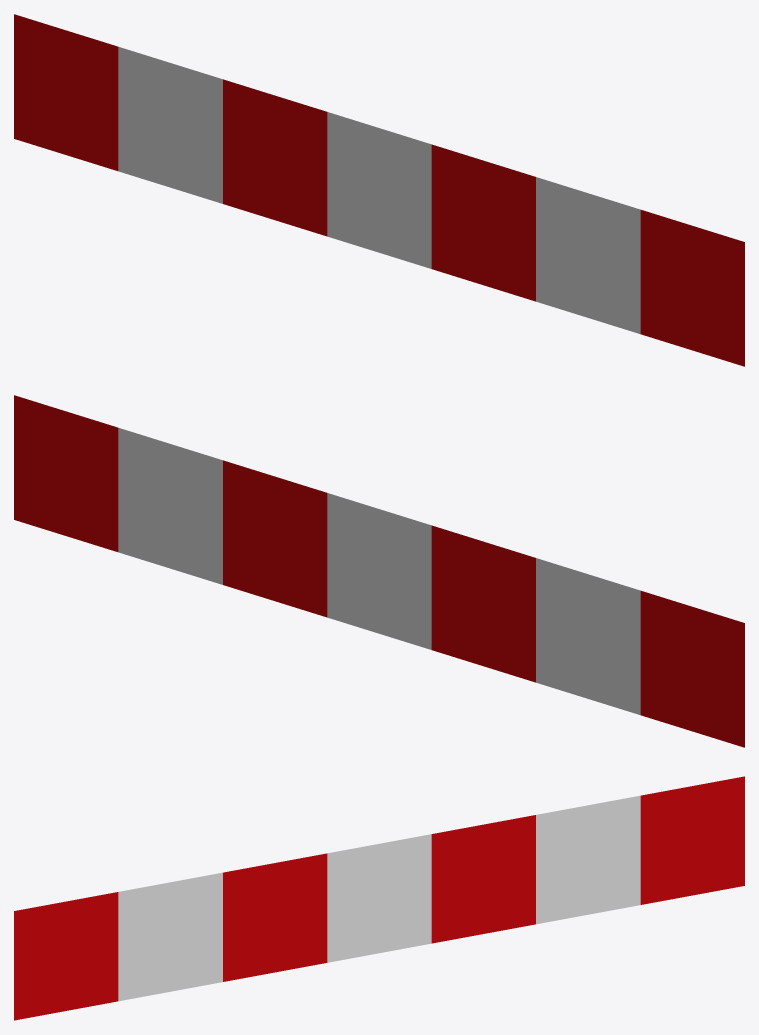
File: barrier.fbx
The picture shows the model from 3 angles, top to bottom: view 1: azimuth 30°, elevation 25°; view 2: azimuth 210°, elevation 25°; view 3: azimuth 270°, elevation 25°; orthographic projection. The views are drawn at different scales.
Parts seen in each view (by area): view 1: barrier; view 2: barrier; view 3: barrier.
Boxes of the visible parts, left/top/right/bottom form: barrier: left=14, top=14, right=744, bottom=366; barrier: left=14, top=395, right=744, bottom=747; barrier: left=14, top=776, right=744, bottom=1020.
Bounding box in the file's own units: 168 × 63.61 × 385.
